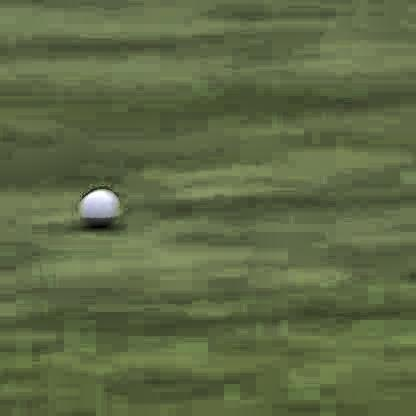golfball: (78, 183, 120, 227)
